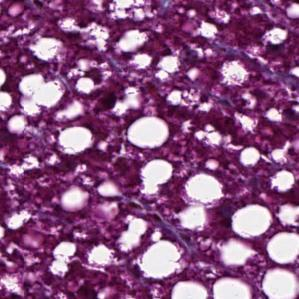steatosis: (138, 239, 184, 278), (184, 171, 228, 205), (129, 117, 170, 150), (261, 265, 298, 299), (233, 204, 271, 237), (58, 122, 92, 158), (268, 230, 299, 263), (215, 275, 249, 299), (173, 278, 207, 299)
